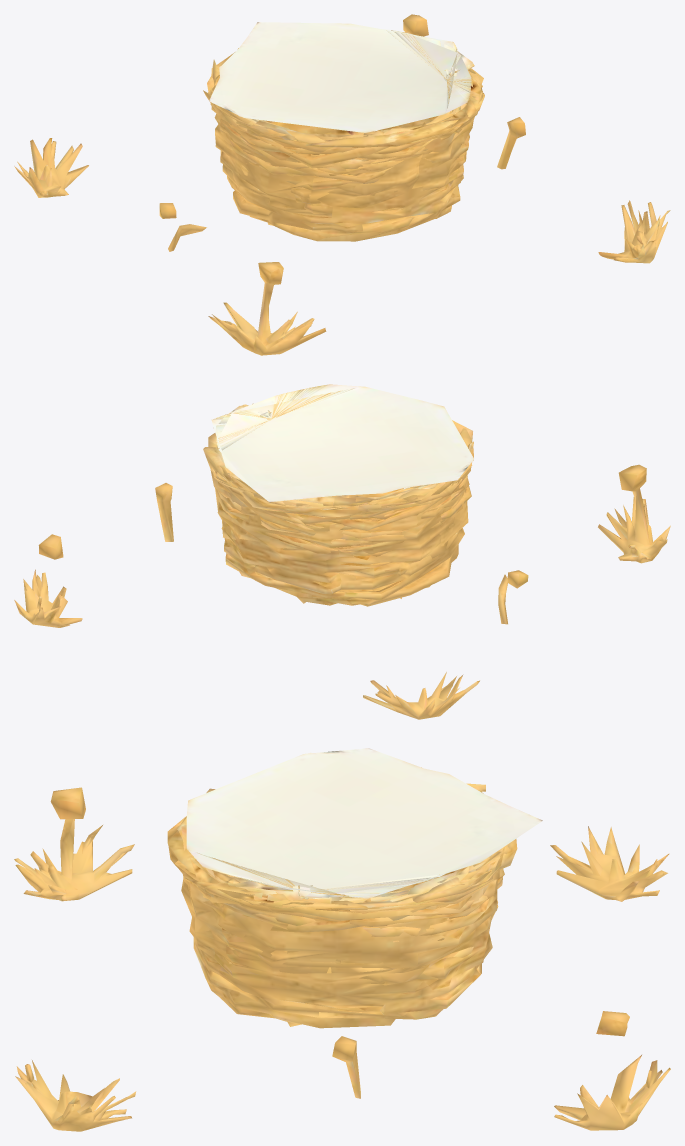
The model's file is s1_gen_basket_blue.glb.
3 renders of one model, top to bottom at view 1: azimuth 30°, elevation 25°; view 2: azimuth 150°, elevation 25°; view 3: azimuth 270°, elevation 25°, orthographic. The views are drawn at different scales.
Bounding box in the file's own units: 1.91 × 0.591 × 1.89.
Materials: 1 (1 with a texture image).
